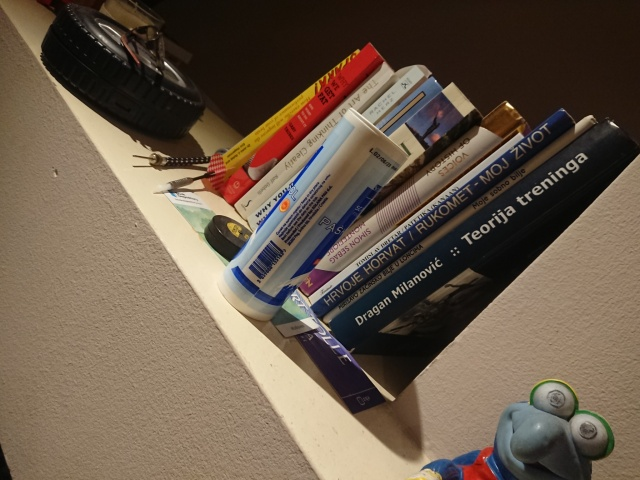Solana Pag Fine Sea Salt 250g: (213, 104, 412, 324)
